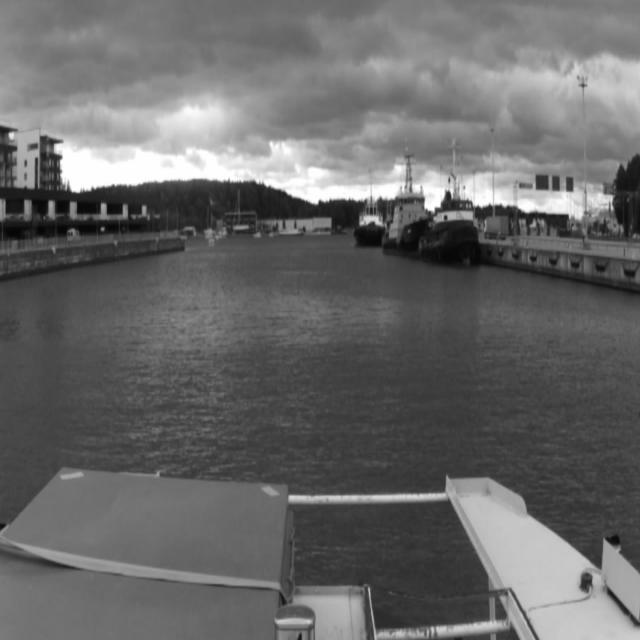ship: (419, 134, 483, 268), (382, 151, 432, 256), (354, 172, 384, 245), (232, 188, 250, 230), (208, 212, 215, 248), (252, 231, 262, 238)
